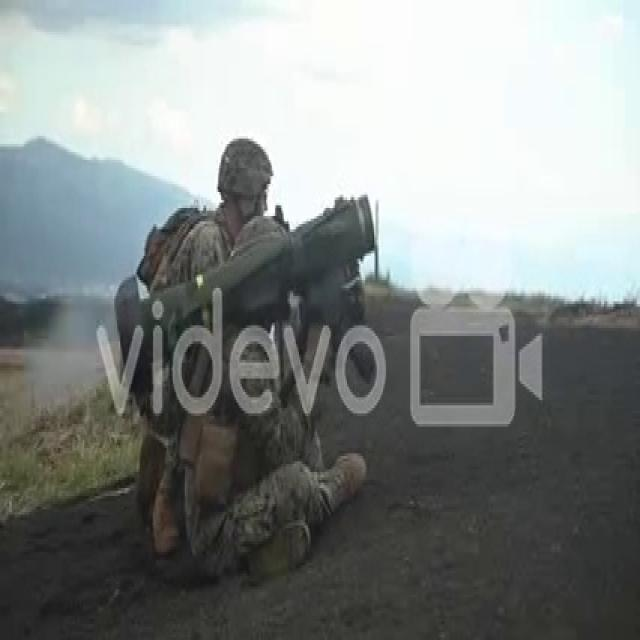bazooka: (111, 189, 380, 408)
